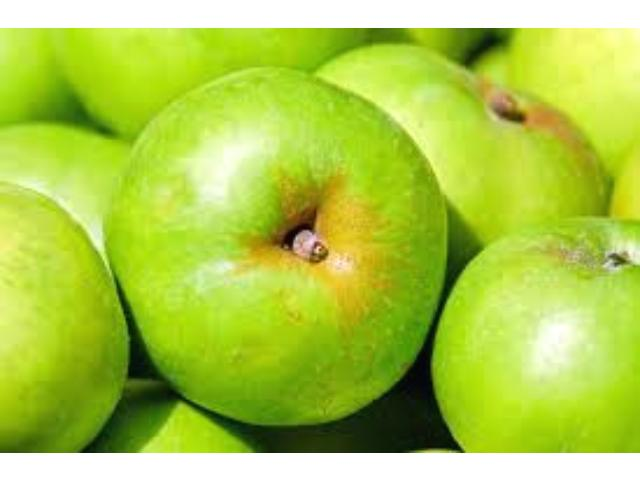green apple: (107, 63, 446, 426), (250, 40, 610, 358), (430, 215, 639, 450), (1, 177, 129, 449)
